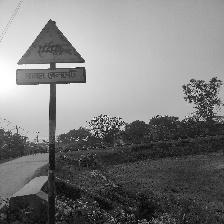Rail-crossing: (16, 19, 86, 87)
